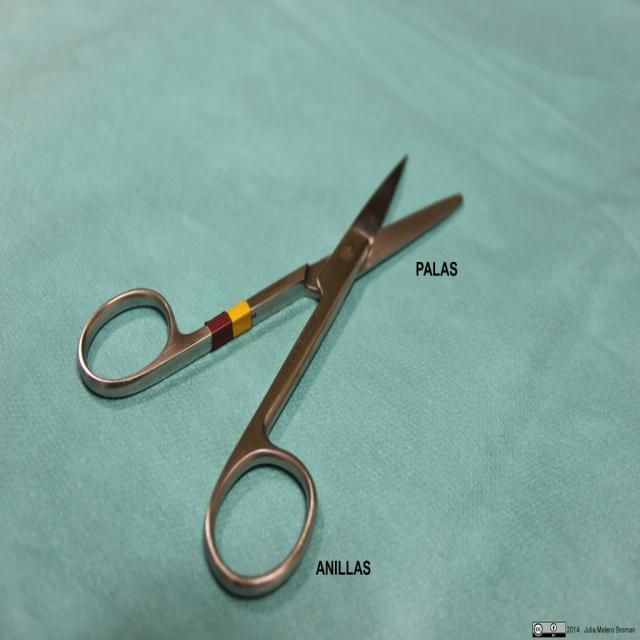scissors: (76, 152, 463, 598)
